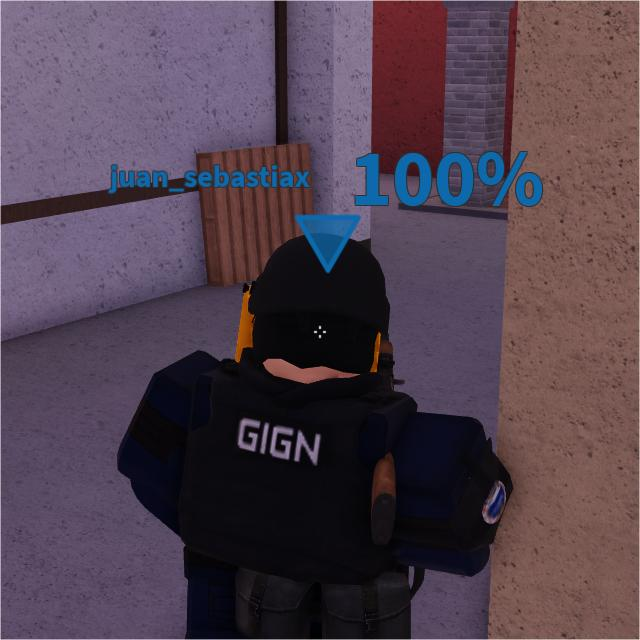Head: (240, 236, 390, 375)
Player: (130, 240, 511, 640)
